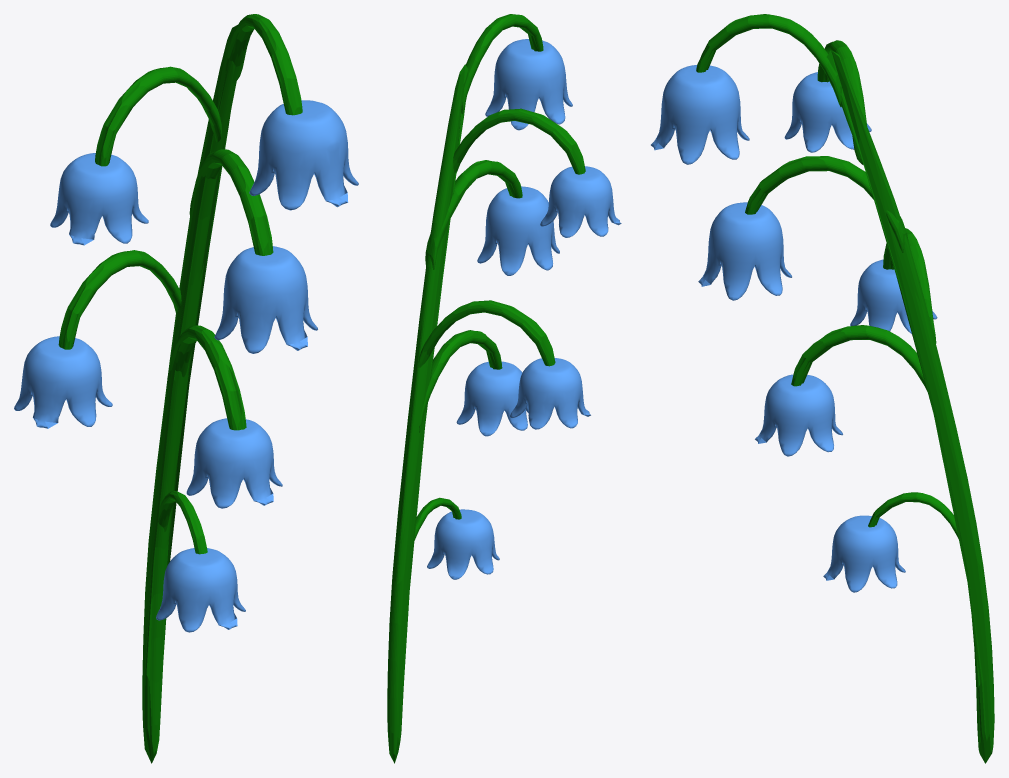
File: Sadness_ebw.glb
3 views of the same model, side by side, from view 1: azimuth 30°, elevation 25°; view 2: azimuth 150°, elevation 25°; view 3: azimuth 270°, elevation 25° (orthographic). The views are drawn at different scales.
Visible parts, largest first — view 1: 은방울꽃; view 2: 은방울꽃; view 3: 은방울꽃.
Boxes of the visible parts, x1,y1,x2,y2 form: 은방울꽃: [14, 14, 358, 763]; 은방울꽃: [387, 14, 621, 763]; 은방울꽃: [651, 14, 994, 763].
Bounding box in the file's own units: 0.9492 × 3.43 × 1.44.
